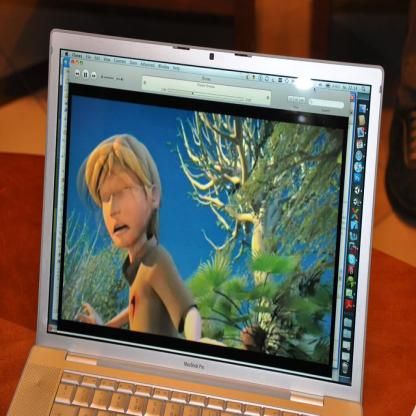board: (0, 25, 380, 416)
